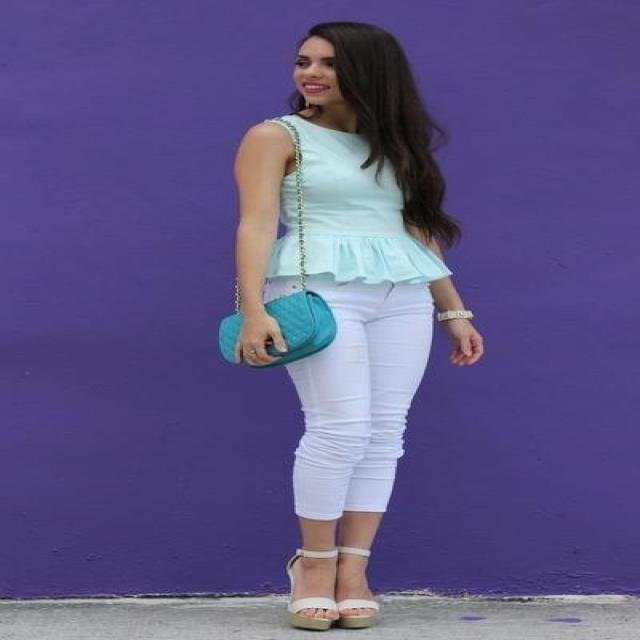bag: (219, 294, 336, 365)
pants: (264, 269, 434, 519)
shirt: (278, 115, 452, 282)
shoe: (292, 540, 378, 616)
